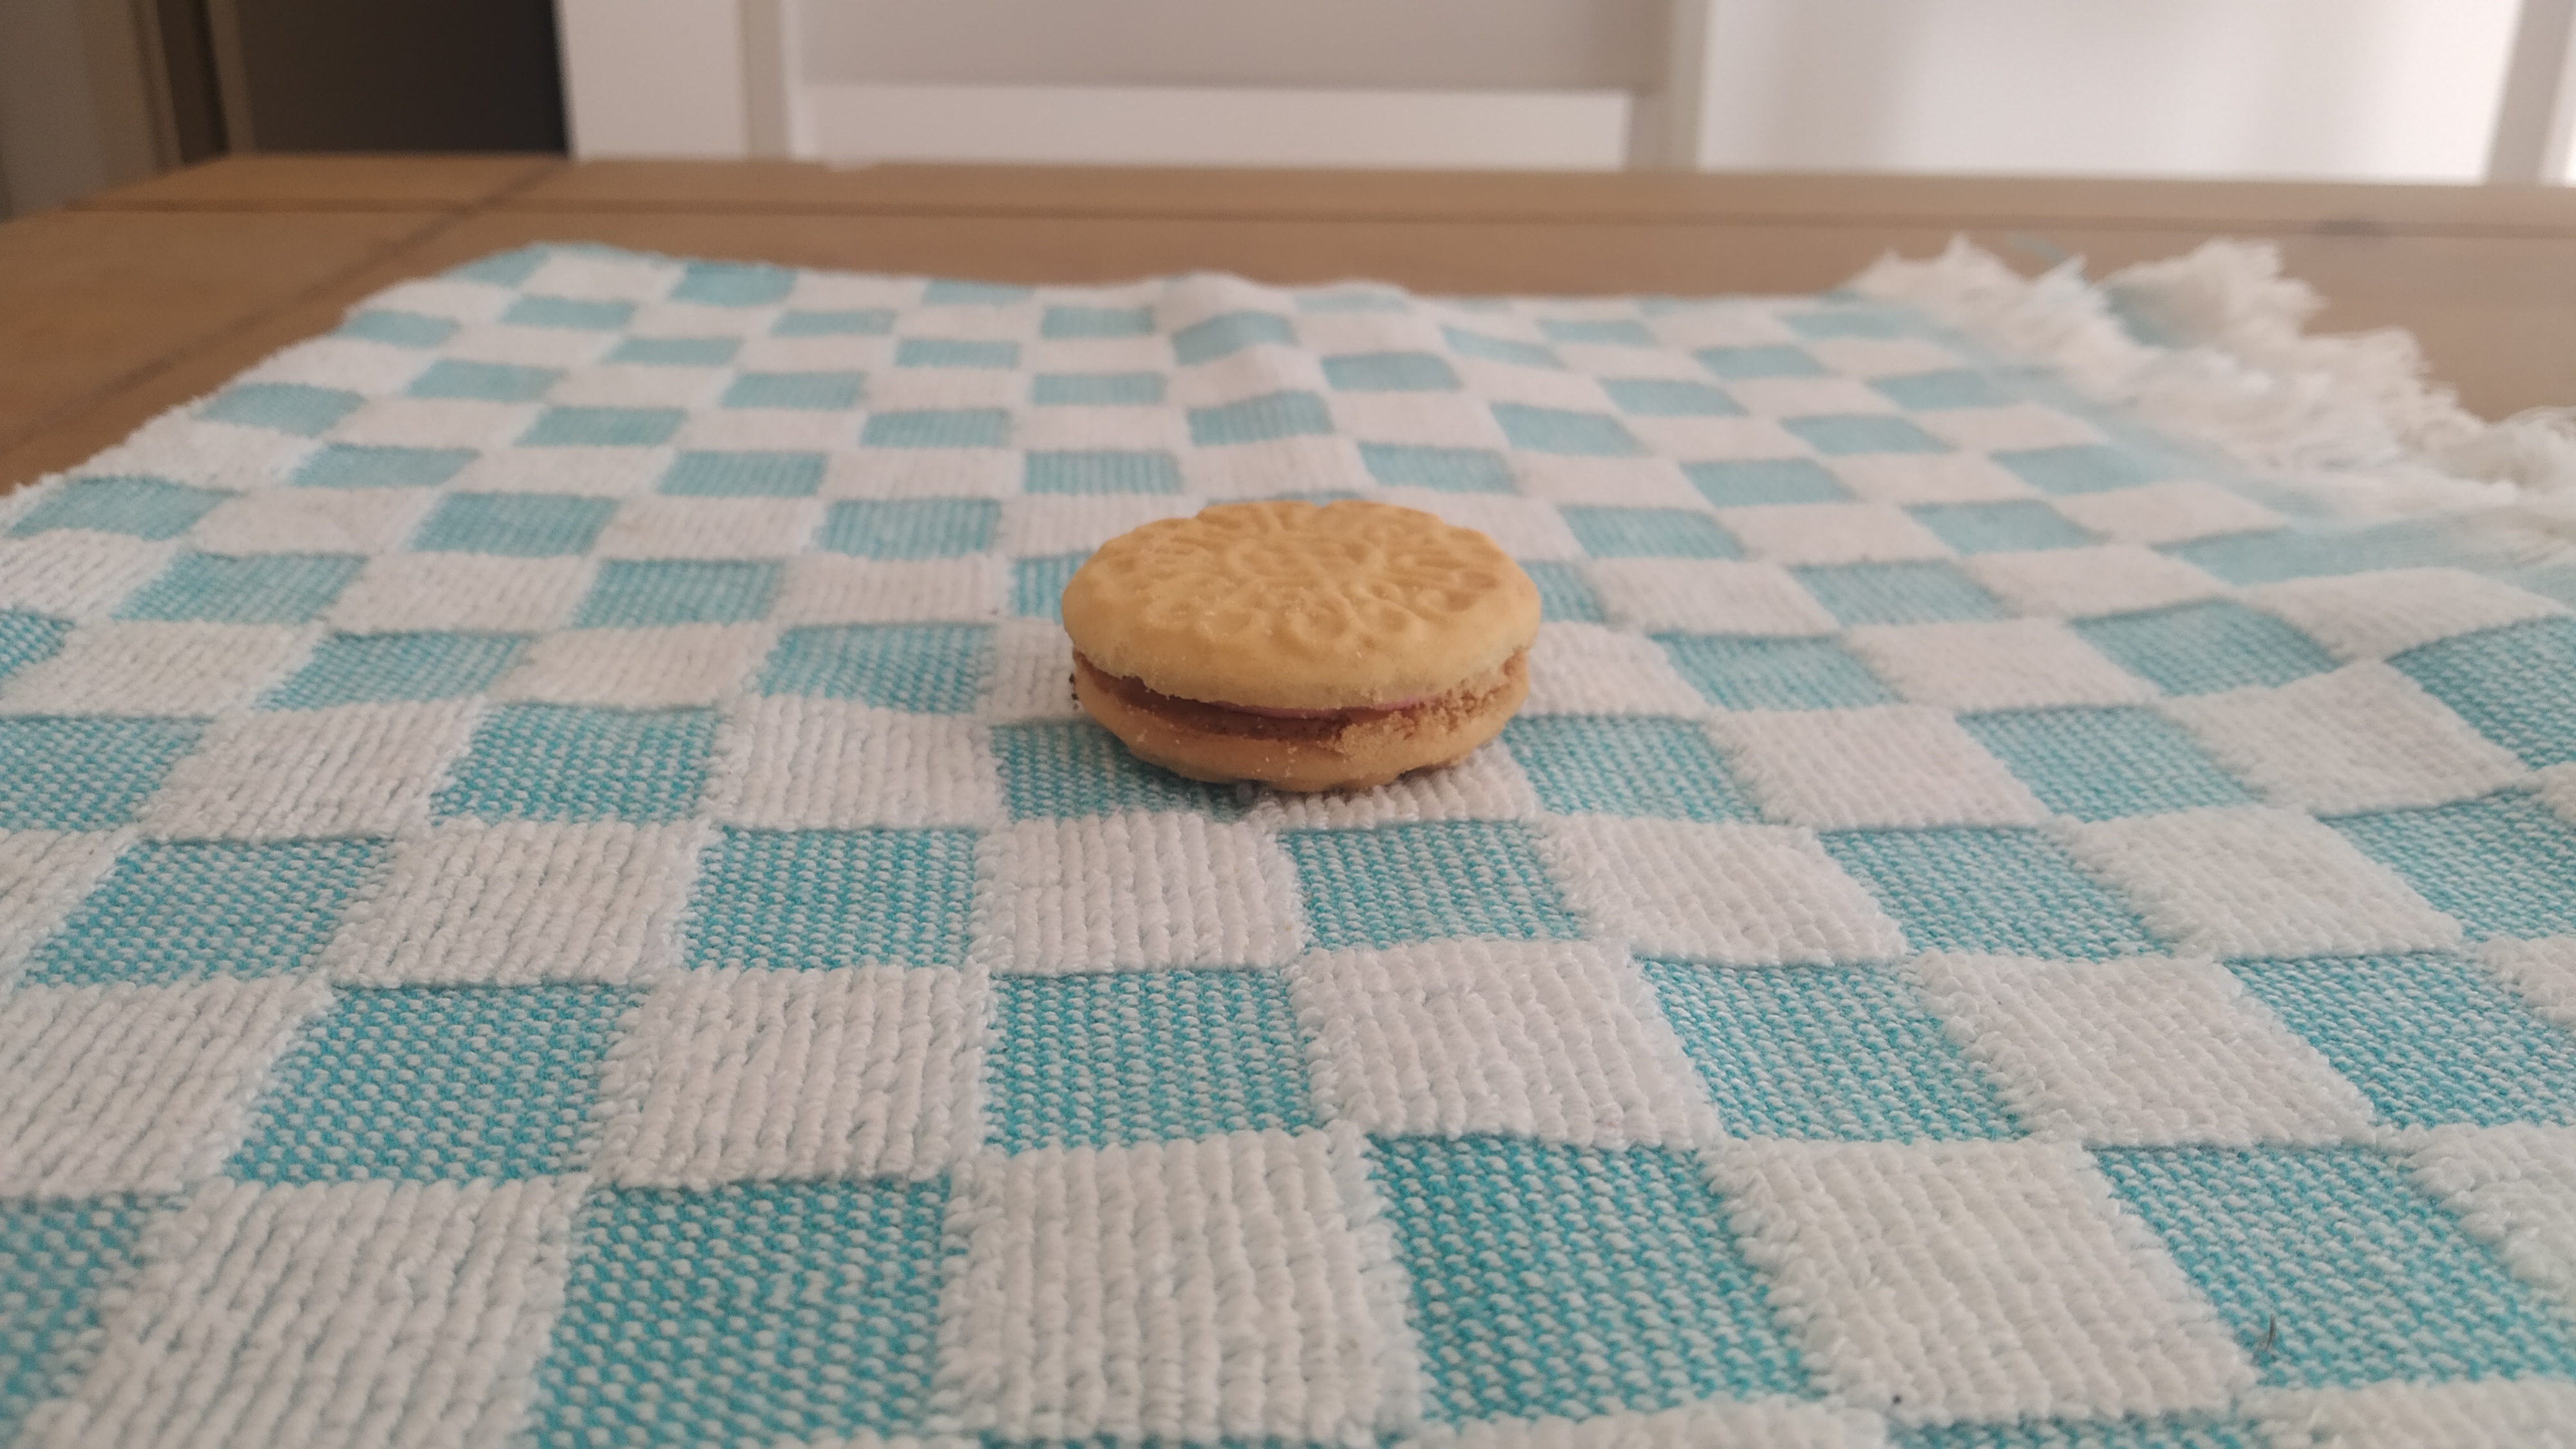lulu: (1060, 499, 1546, 791)
